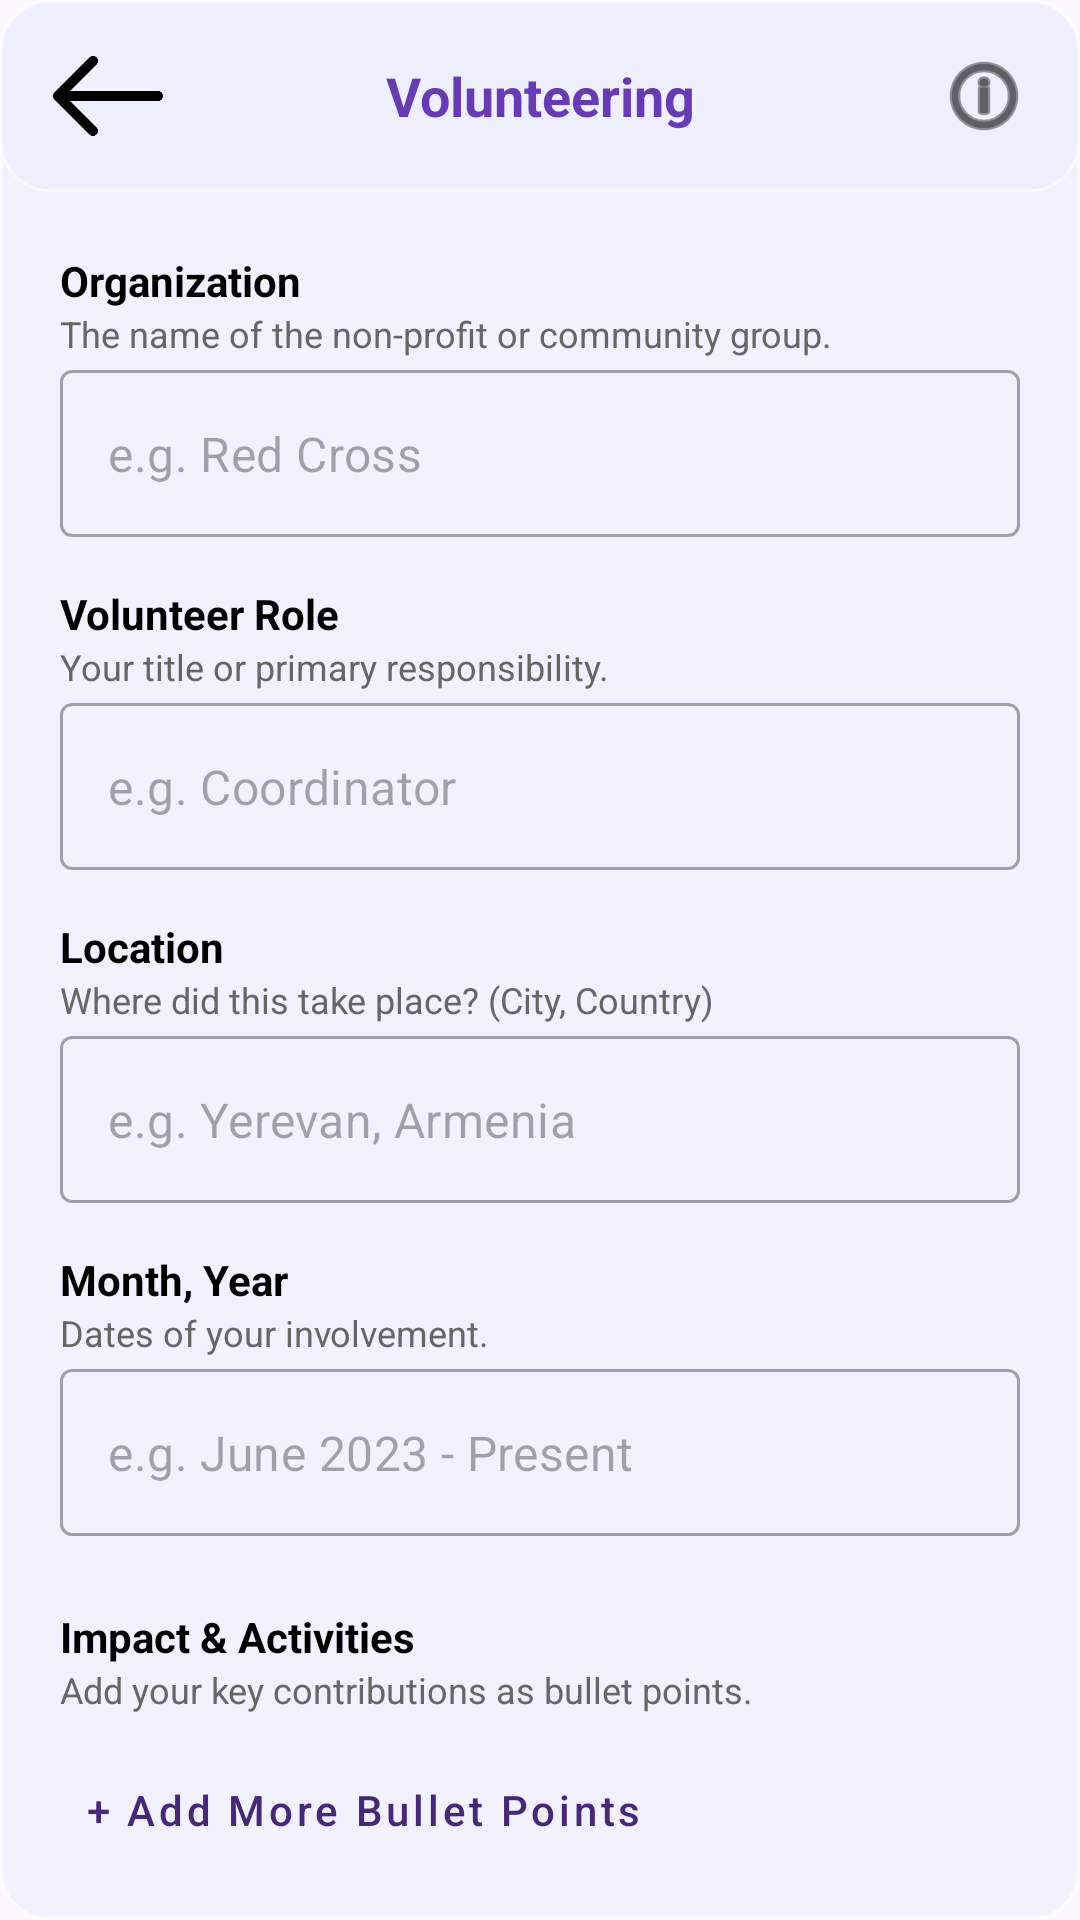

Icons on this 1080×1920 Android screen, each with the point to tap as point (x, y):
back: point (108, 96)
info details: point (984, 96)
